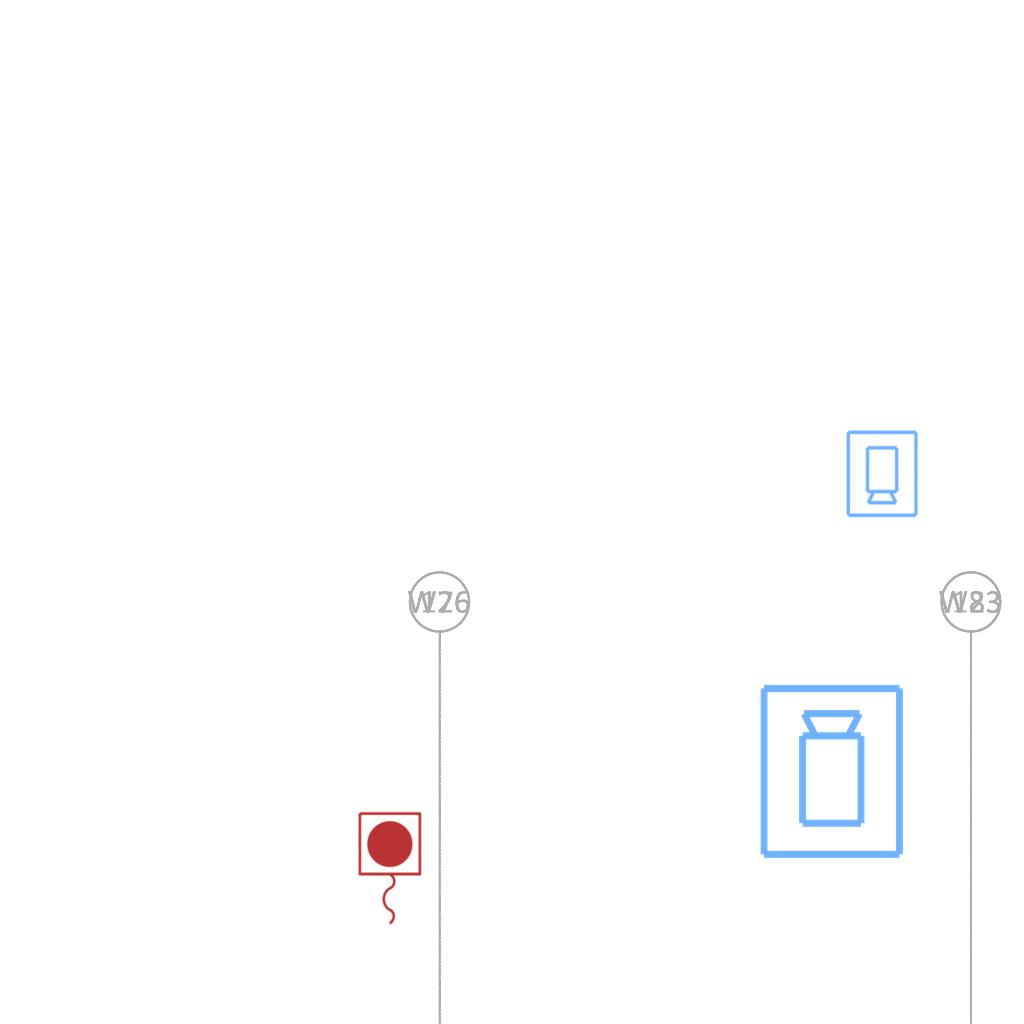KFO_Kamera_mit_Festobjektiv: (756, 681, 910, 863), (843, 428, 920, 519)
Zugtaster: (353, 808, 425, 930)
